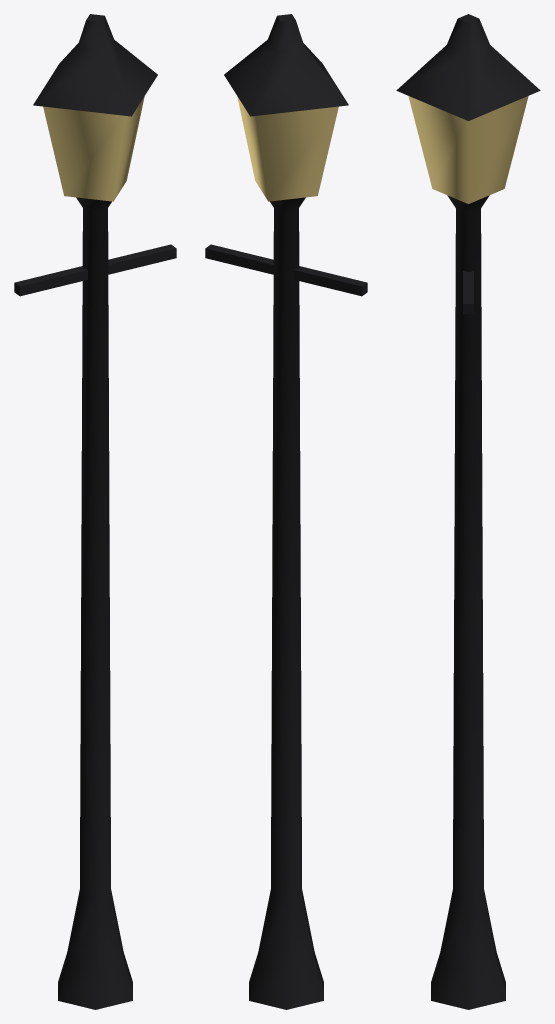
The model's file is halt_lamp.glb.
The picture shows the model from 3 angles, left to right: view 1: azimuth 30°, elevation 25°; view 2: azimuth 150°, elevation 25°; view 3: azimuth 270°, elevation 25°; orthographic projection.
Visible parts, largest first — view 1: Body; view 2: Body; view 3: Body.
Boxes of the visible parts, left/top/right/bottom form: Body: left=14, top=14, right=176, bottom=1009; Body: left=205, top=14, right=367, bottom=1009; Body: left=396, top=14, right=540, bottom=1009.
Bounding box in the file's own units: 0.5 × 2.97 × 0.4.
